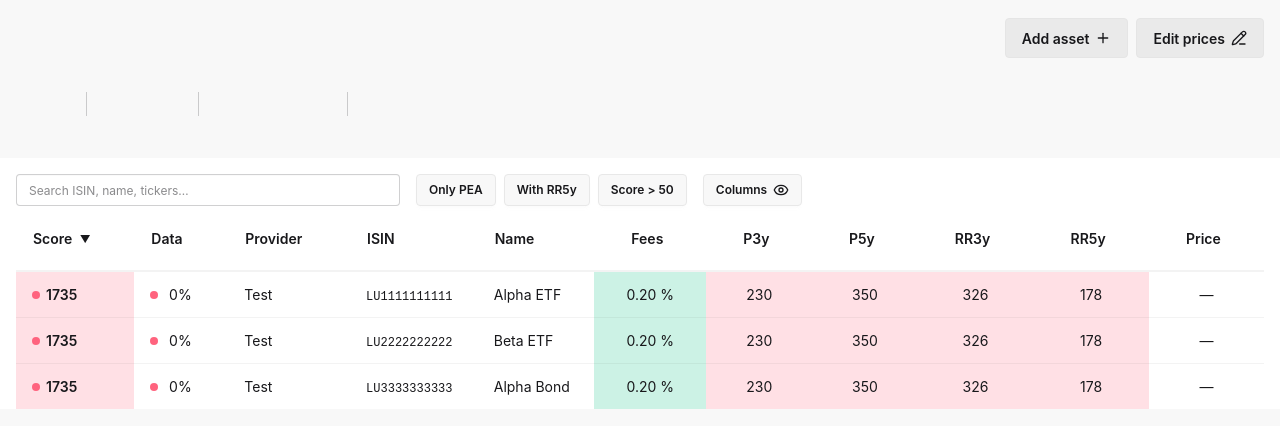
it: AssetTable - filter › Only PEA button combines with the search text filter
The width and height of the screenshot is (1280, 426).
Click the button with test id "filter-only-pea" at (456, 190), box [416,174,496,206]
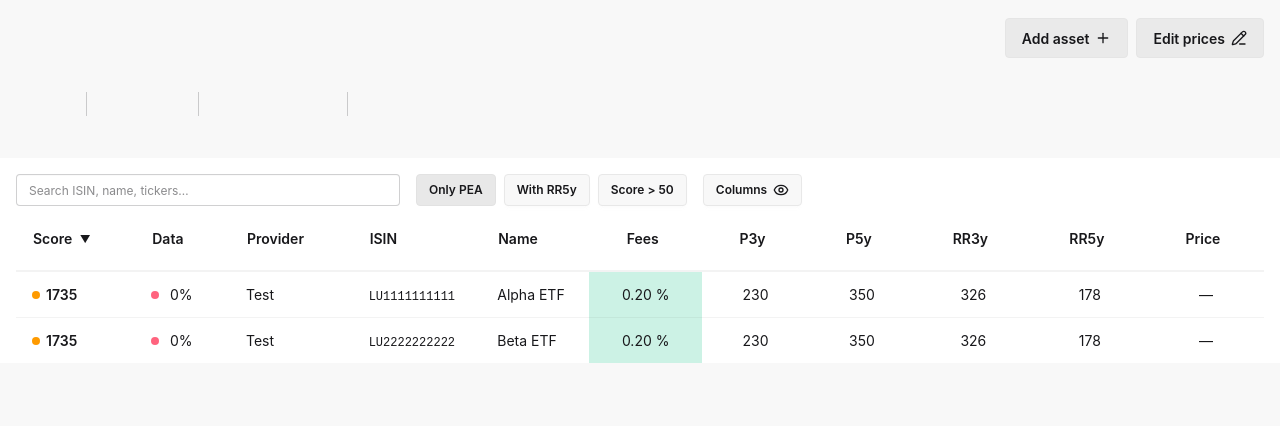
Type "Alpha" into the search field with placeholder "Search ISIN, name, tickers…" at (208, 190), box [16,174,400,206]
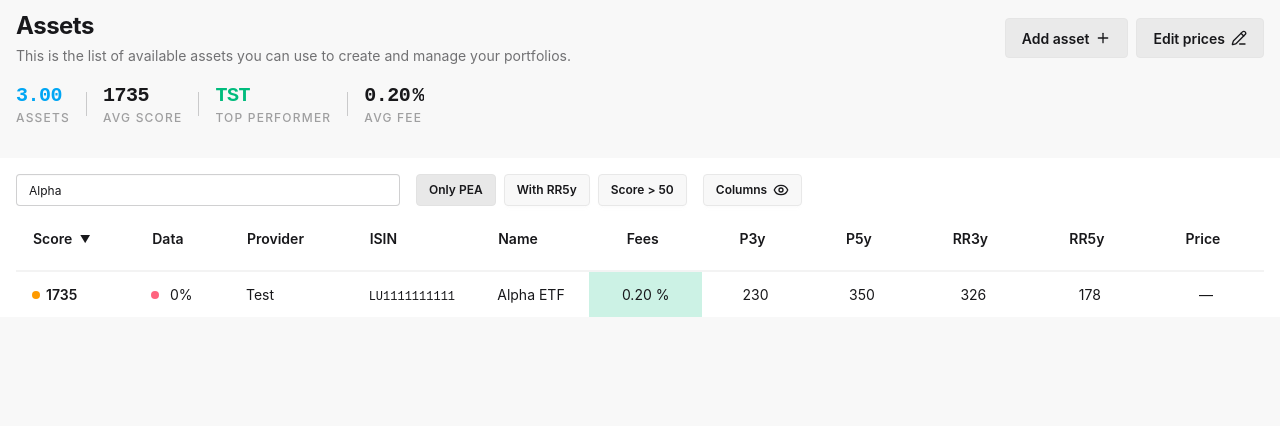
Check: the row with test id "asset-row-LU1111111111" shows "Alpha ETF", box [497,286,565,303]
Check: the row with test id "asset-row-LU2222222222" is gone
